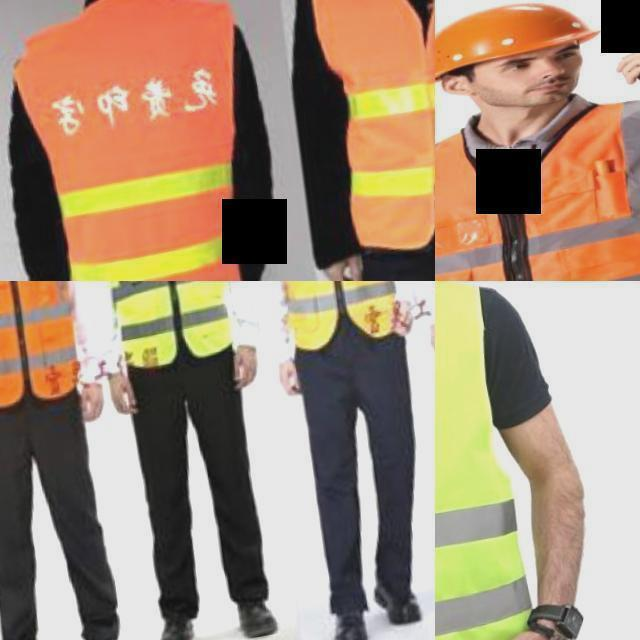vest: (15, 0, 268, 281), (435, 281, 550, 640), (435, 86, 640, 281), (304, 0, 435, 266), (92, 281, 238, 371), (0, 281, 88, 418), (258, 281, 415, 357)
